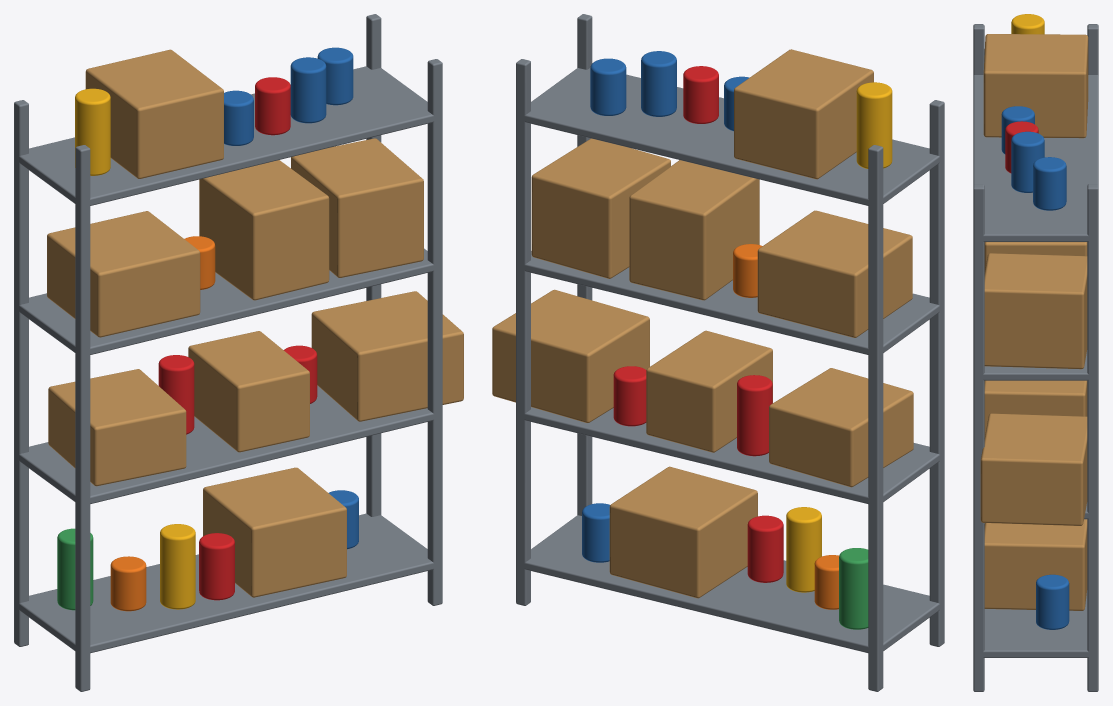
File: shelves.glb
The picture shows the model from 3 angles, left to right: view 1: azimuth 30°, elevation 25°; view 2: azimuth 150°, elevation 25°; view 3: azimuth 270°, elevation 25°; orthographic projection. The views are drawn at different scales.
Parts seen in each view (by area): view 1: Box.005, Box.003, Board, Box, Box.004, Board.003, Box.007, Box.006, Box.002, Box.001, Board.001, Post (+17 smaller); view 2: Box, Board.003, Box.005, Box.004, Box.003, Board, Box.007, Box.006, Box.001, Box.002, Post.001, Post (+16 smaller); view 3: Box.006, Box.003, Board.003, Box.007, Box, Post.003, Post.002, Board, Box.002, Can.007, Can.015, Can.014 (+7 smaller).
Part boxes in pixels (x1,y1,x2,y2): Box.005: [199, 160, 329, 300]; Box.003: [311, 291, 463, 421]; Board: [18, 513, 440, 654]; Box: [203, 467, 346, 597]; Box.004: [47, 211, 200, 337]; Board.003: [14, 66, 441, 206]; Box.007: [85, 49, 223, 178]; Box.006: [291, 138, 423, 277]; Box.002: [188, 331, 309, 452]; Box.001: [48, 369, 186, 486]; Board.001: [18, 385, 441, 505]; Post: [75, 145, 90, 691]; Box: [609, 466, 757, 598]; Board.003: [517, 68, 944, 206]; Box.005: [629, 160, 759, 300]; Box.004: [757, 210, 912, 337]; Box.003: [492, 289, 649, 422]; Board: [519, 515, 943, 654]; Box.007: [734, 49, 873, 179]; Box.006: [531, 138, 670, 278]; Box.001: [769, 368, 913, 487]; Box.002: [646, 330, 772, 452]; Post.001: [868, 145, 883, 691]; Post: [929, 100, 944, 646]; Box.006: [984, 253, 1087, 369]; Box.003: [980, 413, 1087, 525]; Board.003: [973, 75, 1098, 241]; Box.007: [983, 34, 1088, 138]; Box: [984, 519, 1087, 610]; Post.003: [1087, 184, 1098, 691]; Post.002: [973, 184, 984, 691]; Board: [974, 590, 1097, 657]; Box.002: [984, 380, 1087, 436]; Can.007: [1036, 574, 1069, 629]; Can.015: [1033, 157, 1066, 210]; Can.014: [1011, 131, 1044, 192].
Bounding box in the file's own units: 1.53 × 2.09 × 0.45.
